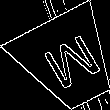M_SE: (33, 28, 103, 95)
